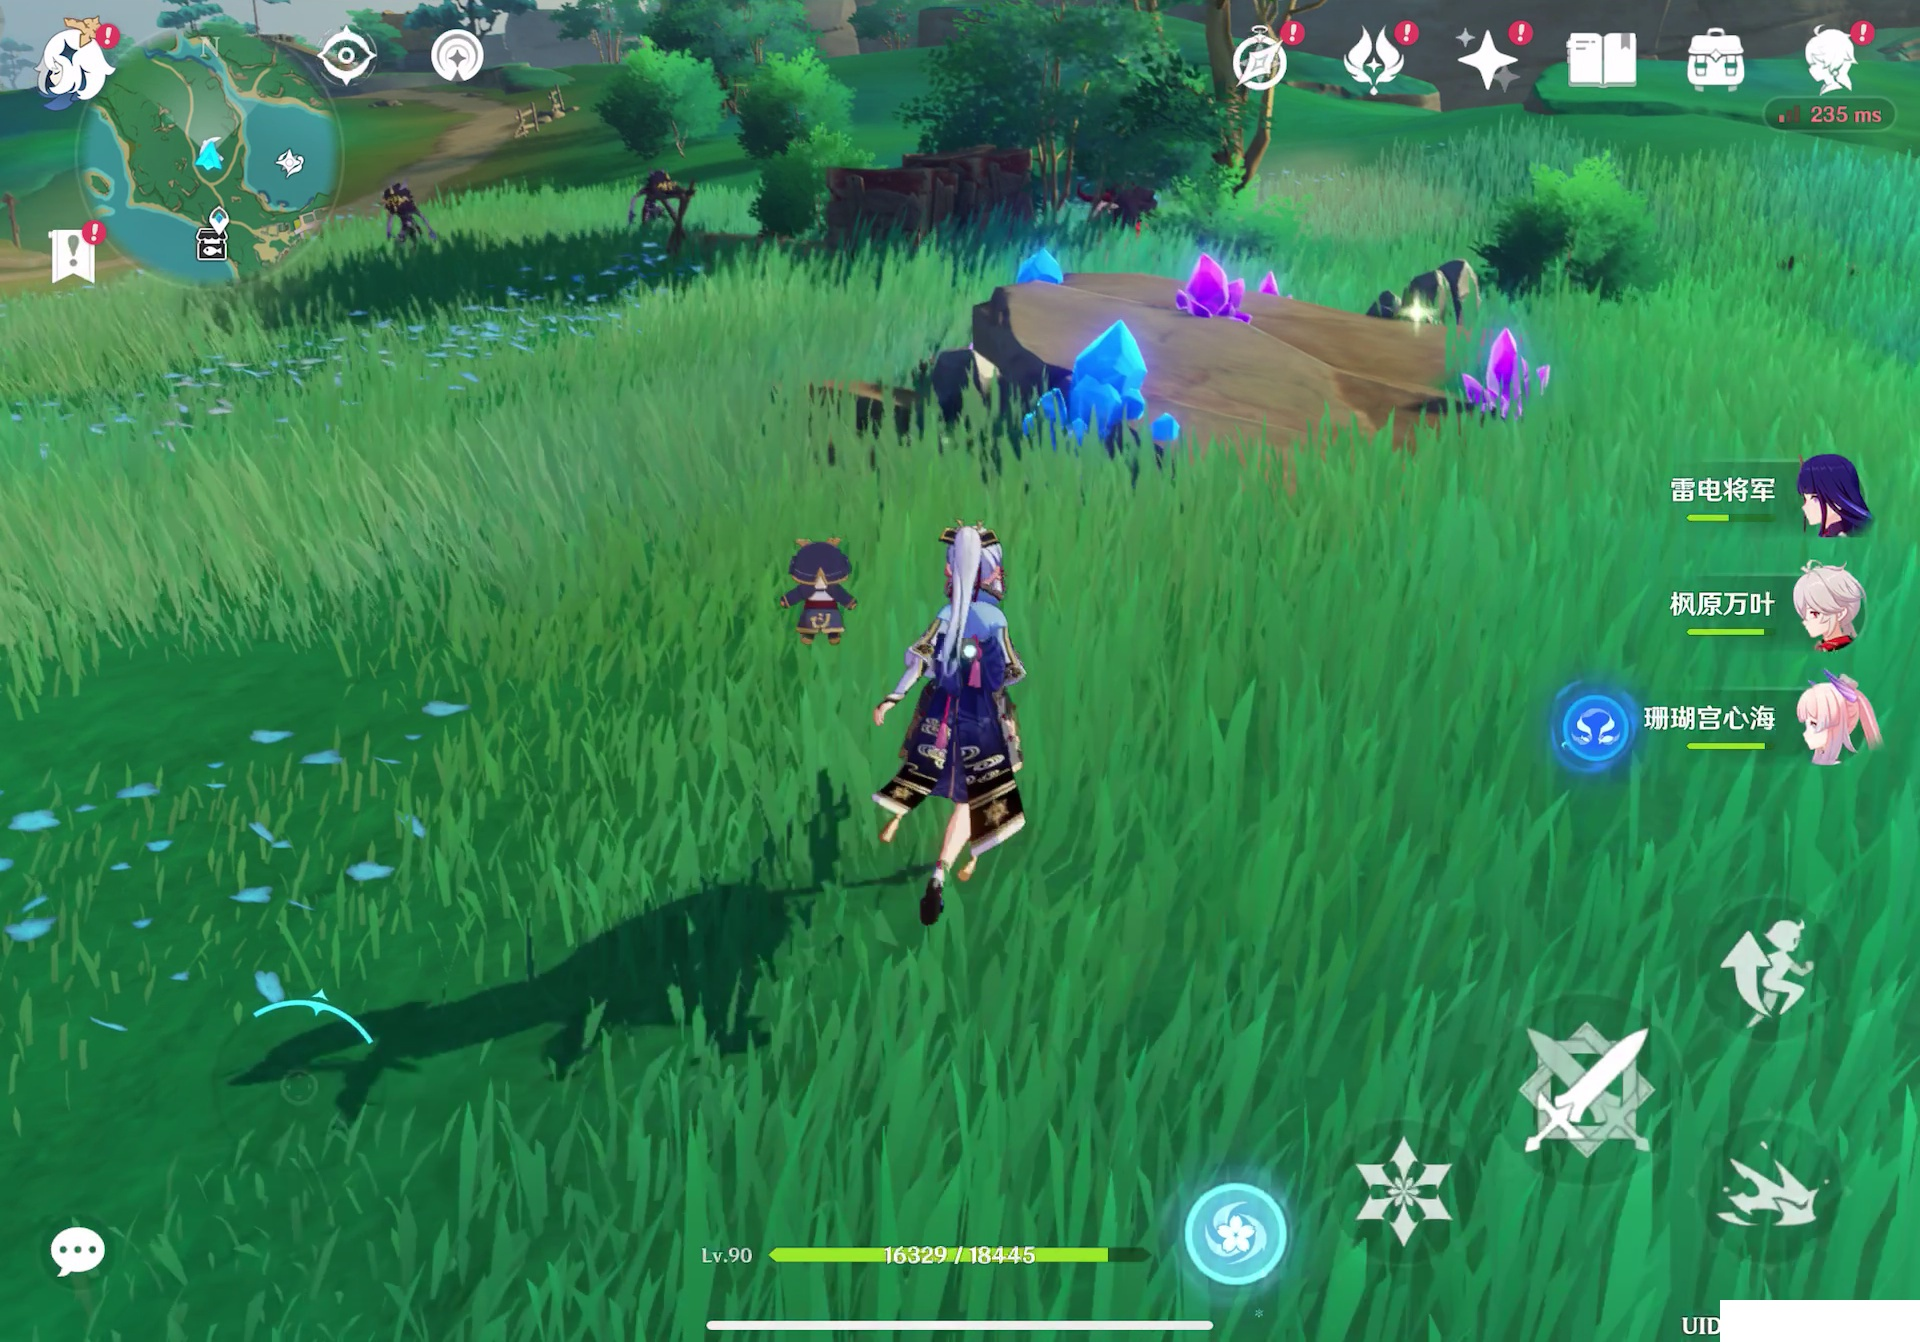丘丘人: (373, 179, 430, 265), (624, 174, 681, 244)
白铁矿石: (1369, 260, 1484, 321), (922, 346, 1018, 403)
神里绫龟: (848, 508, 1064, 935)
紫矿石: (1463, 328, 1552, 424), (1169, 251, 1258, 327)
蓝矿石: (1034, 321, 1177, 459), (1014, 252, 1071, 289)
